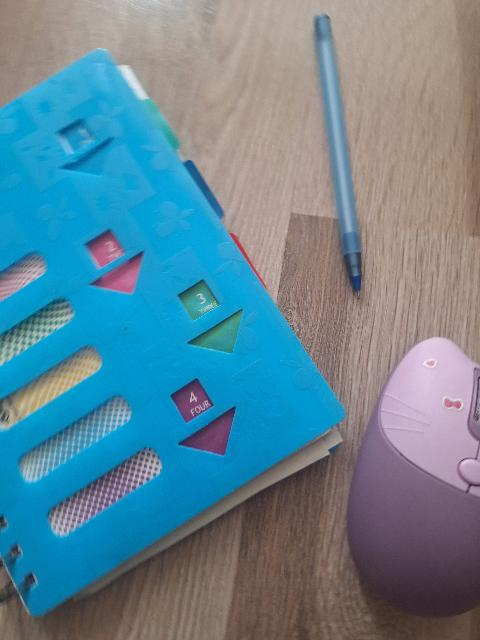writing_tool: (314, 14, 368, 304)
